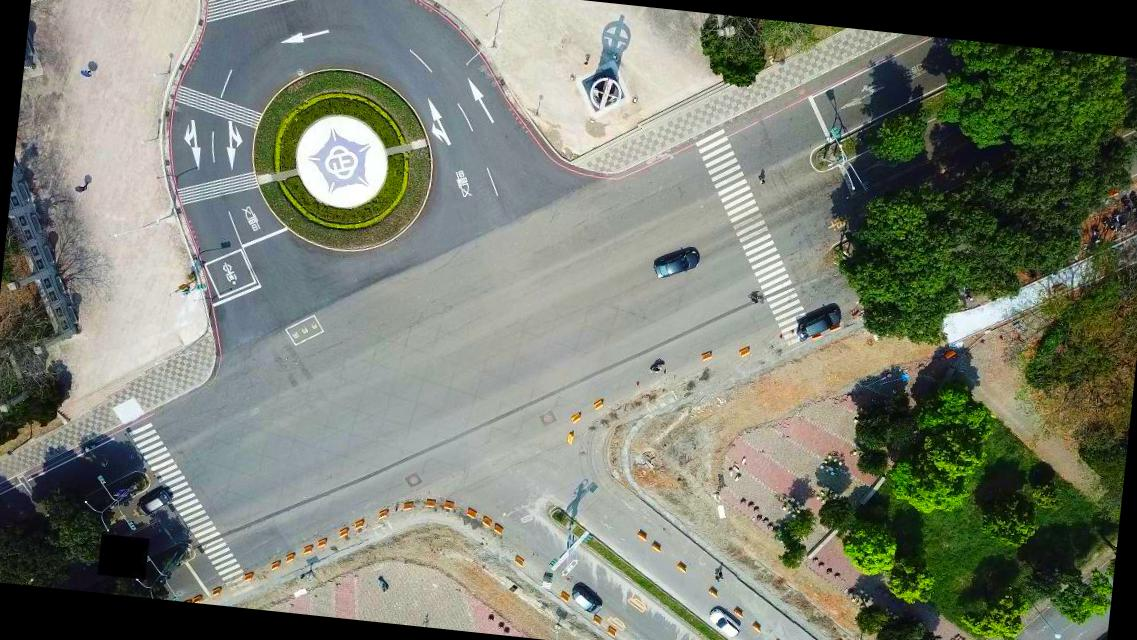vehicle: (651, 245, 701, 282), (794, 304, 842, 342), (135, 485, 172, 517), (707, 606, 743, 638), (568, 584, 604, 615)
